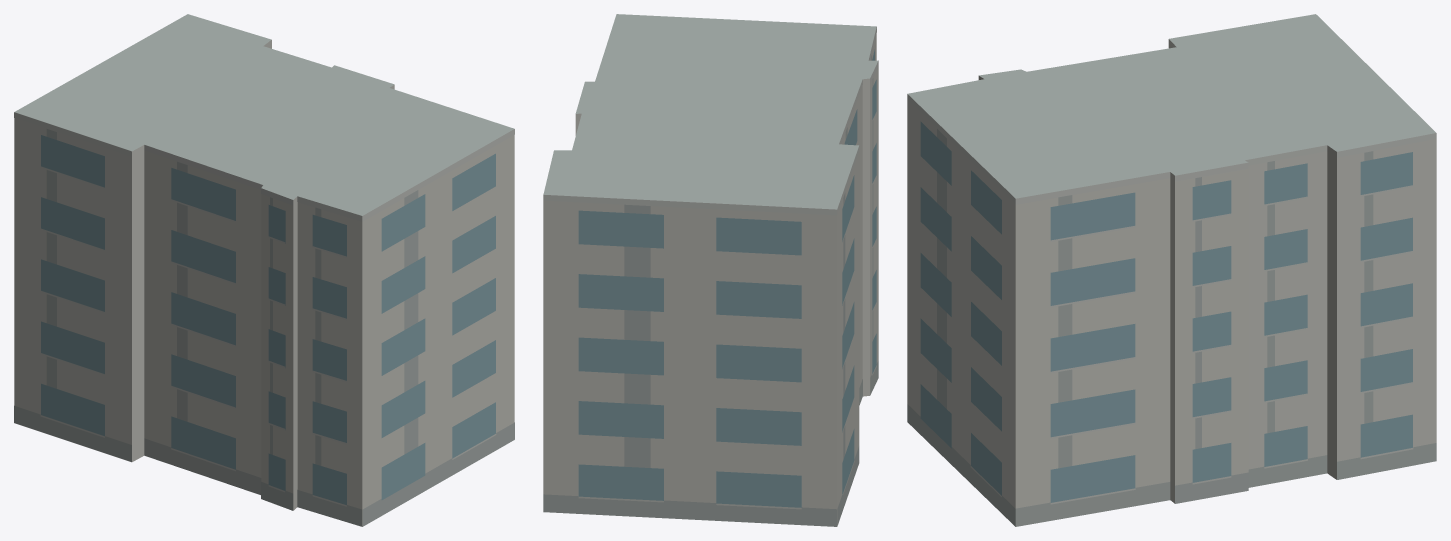
File: survey-upis-32886510.glb
3 views of the same model, side by side, from view 1: azimuth 30°, elevation 25°; view 2: azimuth 150°, elevation 25°; view 3: azimuth 270°, elevation 25° (orthographic). The views are drawn at different scales.
Visible parts, largest first — view 1: survey-upis-32886510.tmp; view 2: survey-upis-32886510.tmp; view 3: survey-upis-32886510.tmp.
Part boxes in pixels (x1,y1,x2,y2): survey-upis-32886510.tmp: [14, 14, 514, 526]; survey-upis-32886510.tmp: [543, 14, 878, 526]; survey-upis-32886510.tmp: [907, 14, 1436, 526].
Bounding box in the file's own units: 15.81 × 13.1 × 19.15.
